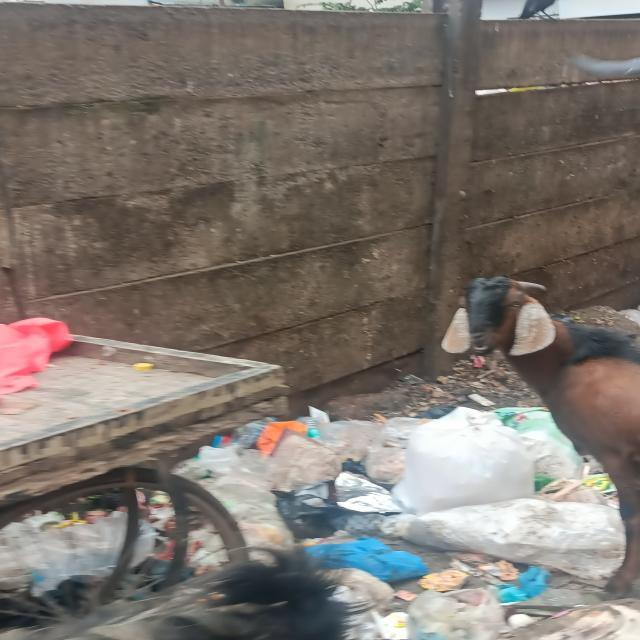garbage: (202, 421, 624, 640)
